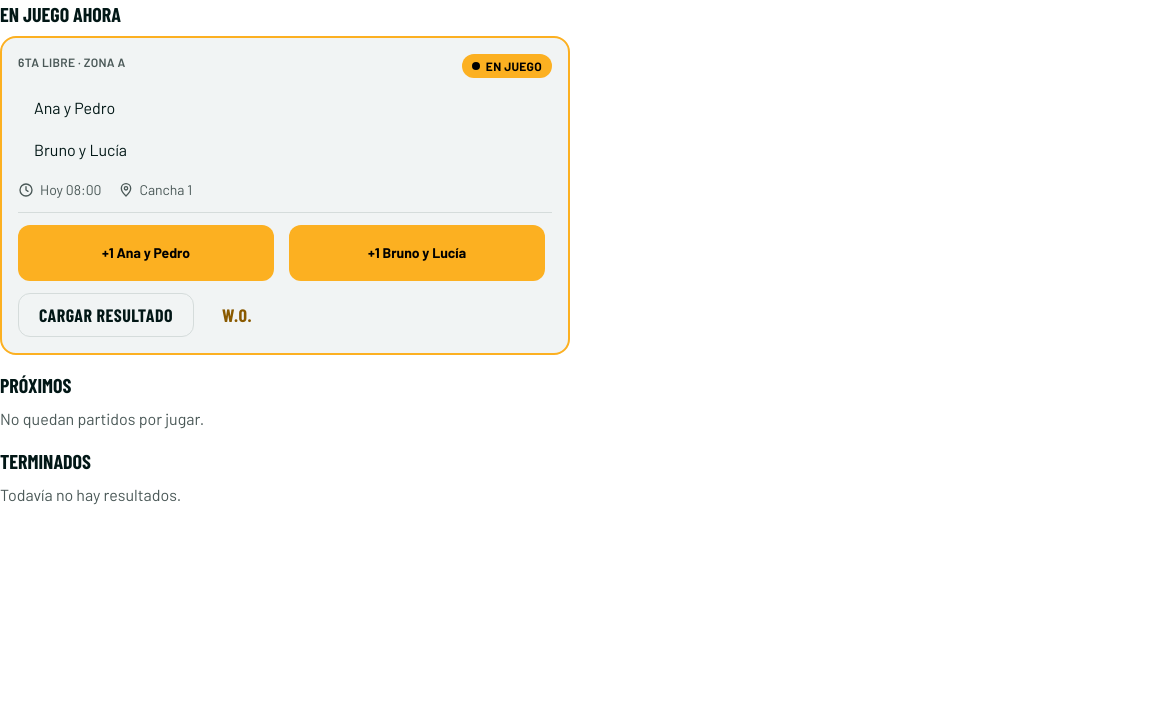
Test case: MatchDayBoard › records a result set by set
Click the button "Cargar resultado" at (106, 315), box [18,293,194,337]
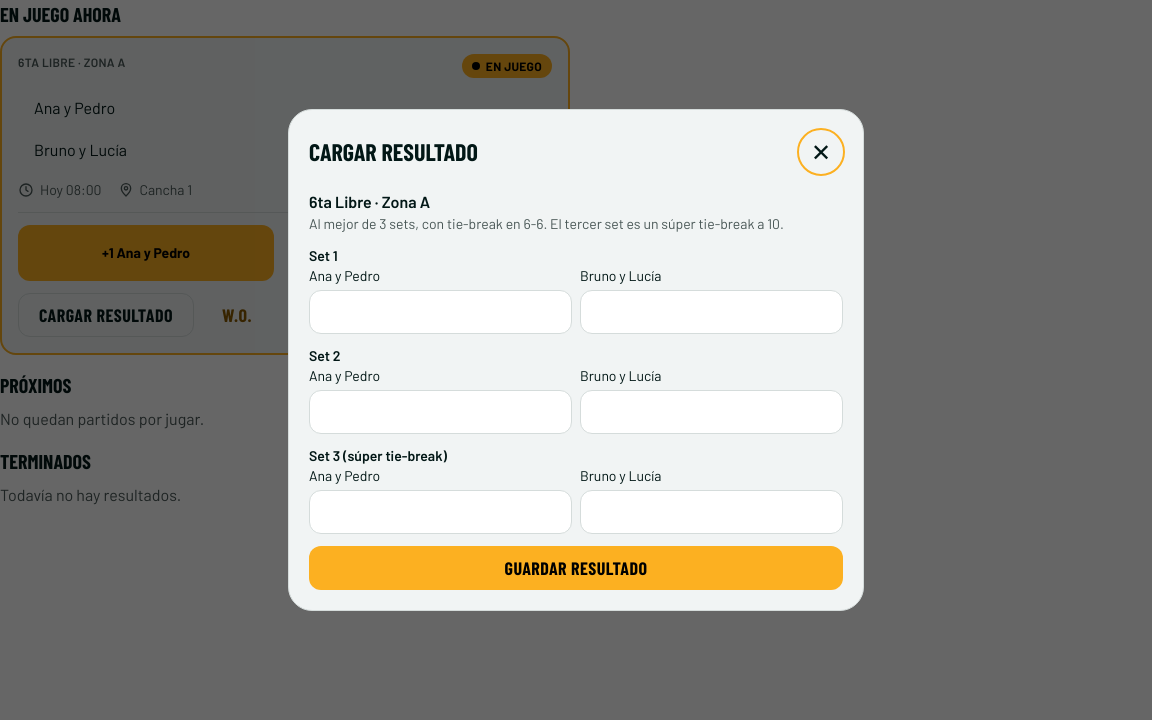
Now the text "Al mejor de 3 sets, con tie-break en 6-6. El tercer set es un súper tie-break a 10." is shown, box [309,215,784,232]
Type "6" into the number field named "Set 1 · Ana y Pedro" at (440, 312), box [309,290,572,334]
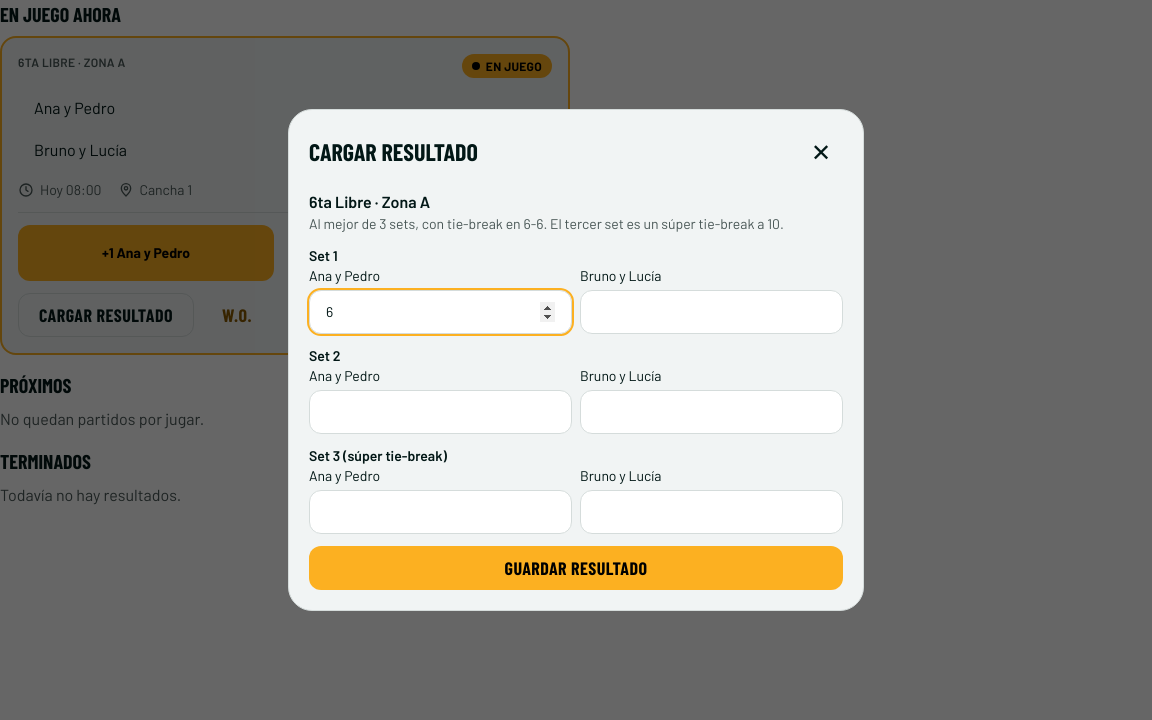
Type "3" into the number field named "Set 1 · Bruno y Lucía" at (712, 312), box [580,290,843,334]
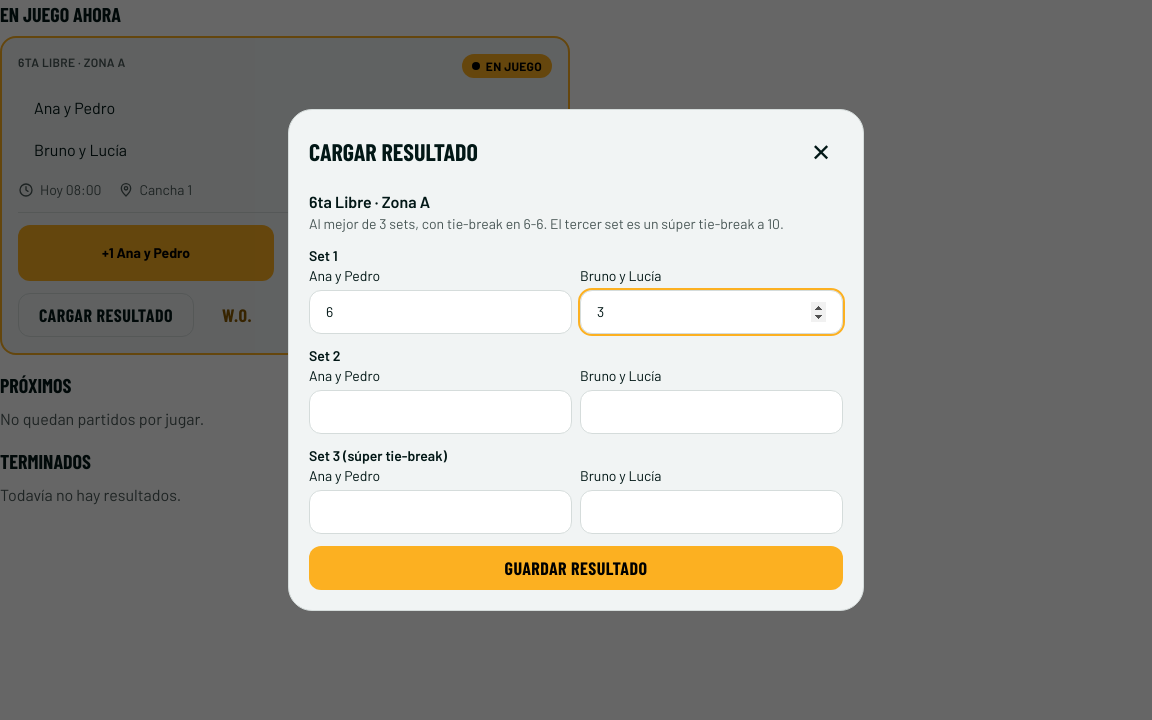
Type "6" into the number field named "Set 2 · Ana y Pedro" at (440, 412), box [309,390,572,434]
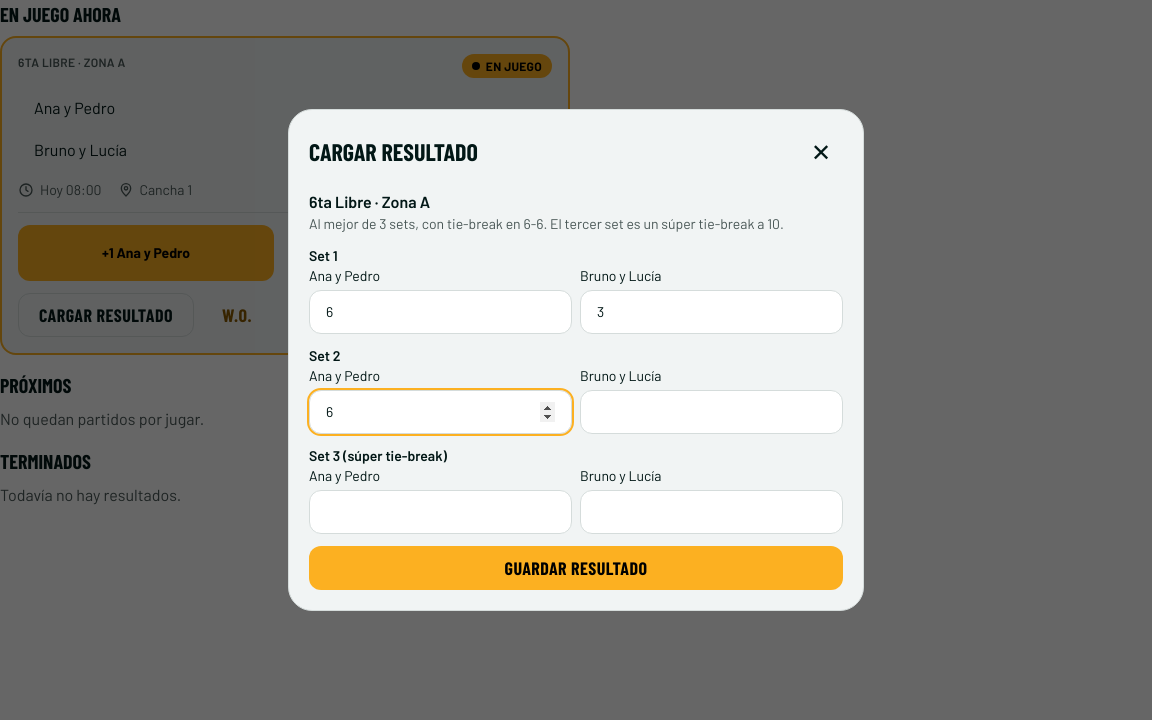
Type "4" into the number field named "Set 2 · Bruno y Lucía" at (712, 412), box [580,390,843,434]
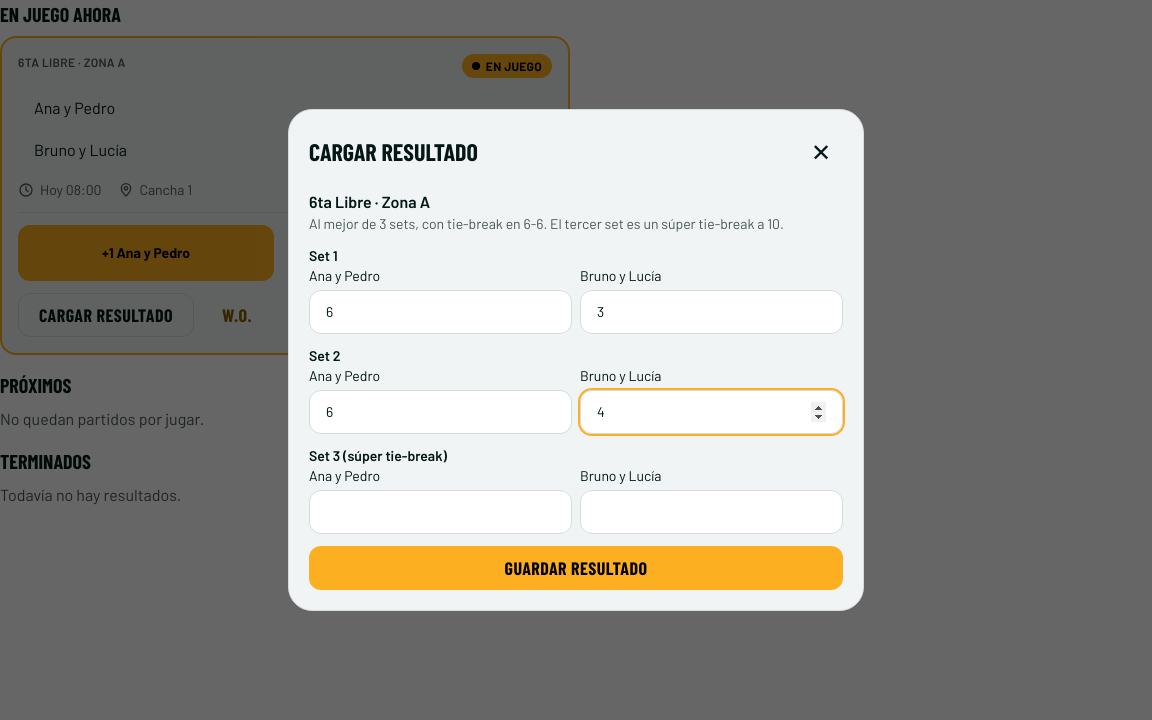
Click the button "Guardar resultado" at (576, 568), box [309,546,843,590]
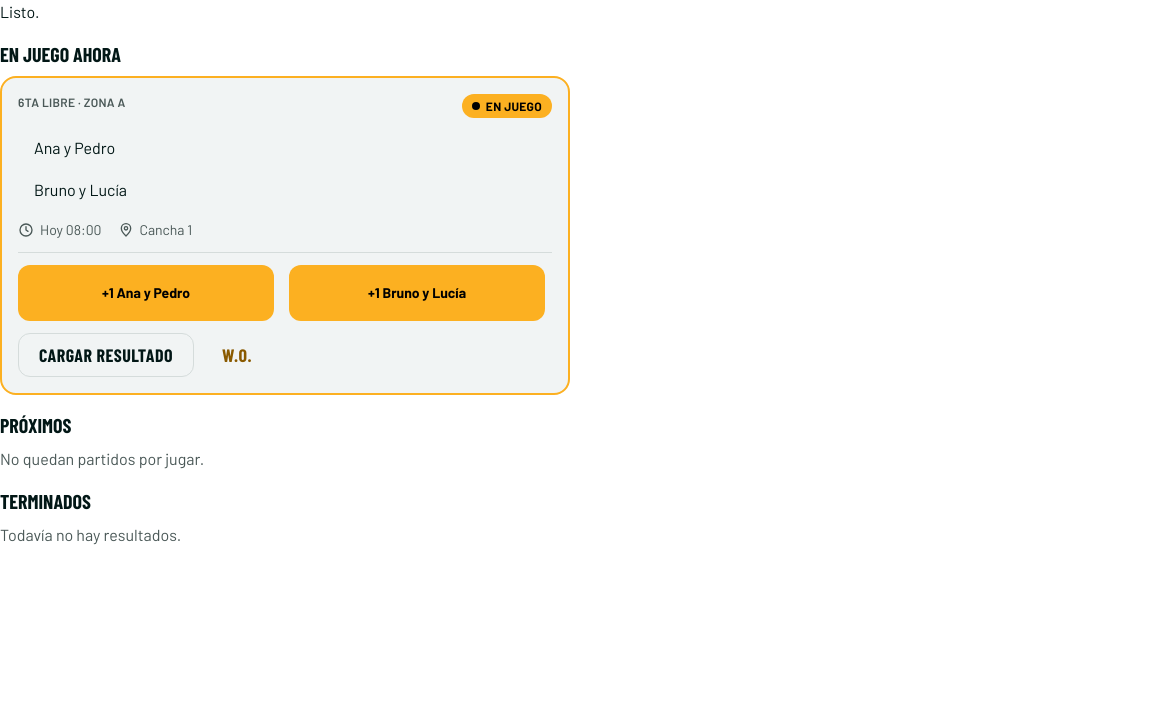
Now the dialog is gone
